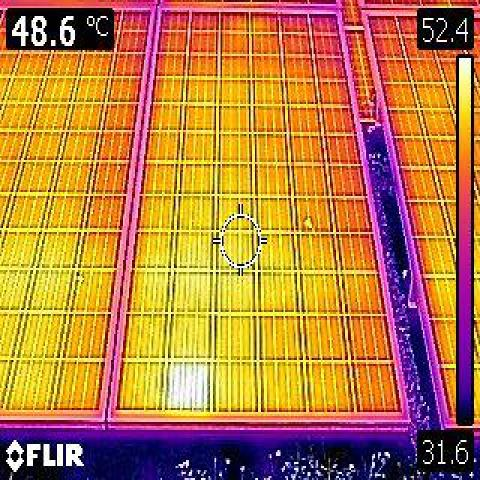fault: (169, 363, 206, 409)
